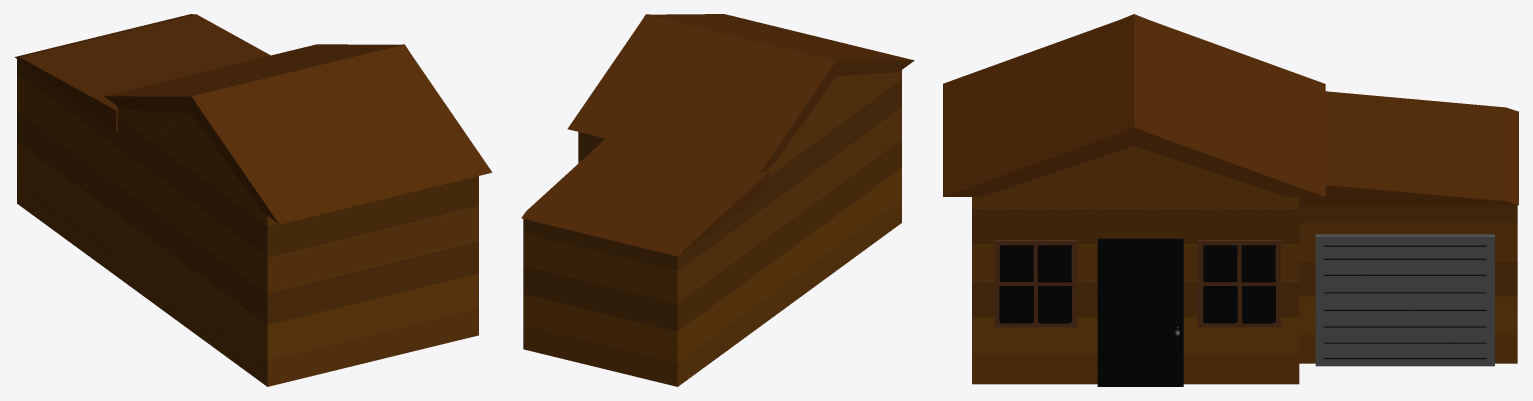
The model's file is house4.glb.
3 renders of one model, left to right at view 1: azimuth 30°, elevation 25°; view 2: azimuth 150°, elevation 25°; view 3: azimuth 270°, elevation 25°, orthographic. The views are drawn at different scales.
Parts seen in each view (by area): view 1: Cube.001, Cube.006, Cube.007, Cube.008, Cube.002; view 2: Cube.001, Cube.007, Cube.011, Cube.002, Cube.008, Cube.013; view 3: Cube.001, Cube.005, Cube.010, Cube.002, Cube.009, Cube.012, Cube.003, Cube.004.
Boxes of the visible parts, x1,y1,x2,y2 form: Cube.001: (104, 44, 492, 224); Cube.006: (267, 176, 478, 386); Cube.007: (117, 106, 267, 386); Cube.008: (17, 59, 116, 276); Cube.002: (15, 14, 270, 131); Cube.001: (567, 14, 914, 175); Cube.007: (767, 70, 901, 320); Cube.011: (523, 219, 677, 386); Cube.002: (521, 138, 769, 256); Cube.008: (677, 192, 767, 386); Cube.013: (578, 132, 767, 171); Cube.001: (943, 14, 1325, 197); Cube.005: (972, 146, 1299, 384); Cube.010: (1315, 234, 1494, 366); Cube.002: (1299, 91, 1518, 205); Cube.009: (1097, 238, 1183, 386); Cube.012: (1299, 205, 1517, 363); Cube.003: (994, 240, 1077, 327); Cube.004: (1198, 240, 1280, 327).
Bounding box in the file's own units: 27.4 × 28.11 × 56.85.
Materials: 8 (7 with a texture image).
